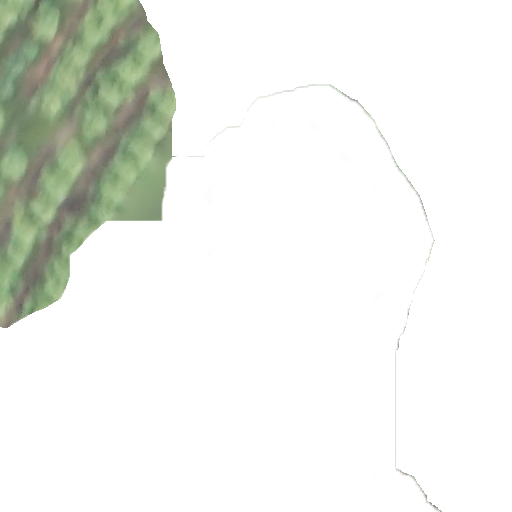eucalipto: (89, 64, 133, 113), (39, 157, 78, 202), (107, 48, 151, 86), (49, 56, 86, 95), (96, 171, 133, 210), (29, 1, 62, 44), (120, 133, 158, 169), (81, 14, 116, 47), (93, 1, 142, 24), (26, 193, 62, 223), (107, 154, 139, 187), (130, 32, 161, 66), (27, 91, 66, 118), (151, 87, 183, 119), (56, 140, 86, 173), (81, 108, 110, 141), (11, 216, 41, 247), (140, 114, 171, 143), (67, 38, 93, 68), (88, 201, 118, 227), (3, 52, 29, 73), (16, 41, 41, 61)
